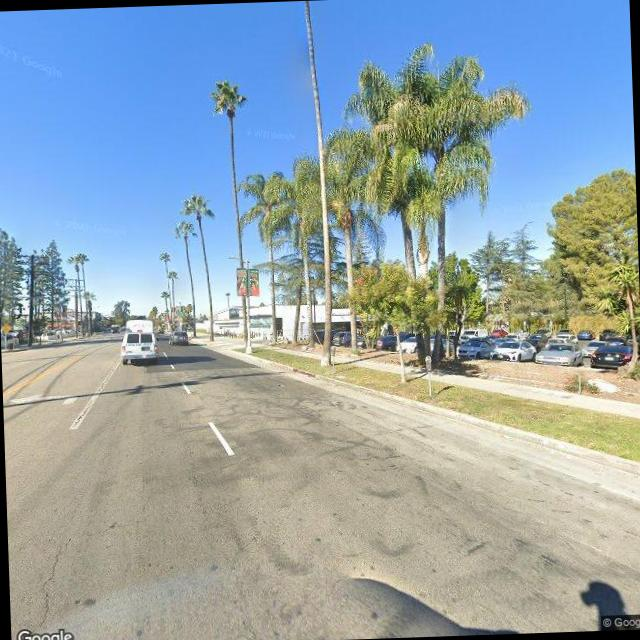crack: (78, 456, 250, 540), (32, 537, 72, 628)
